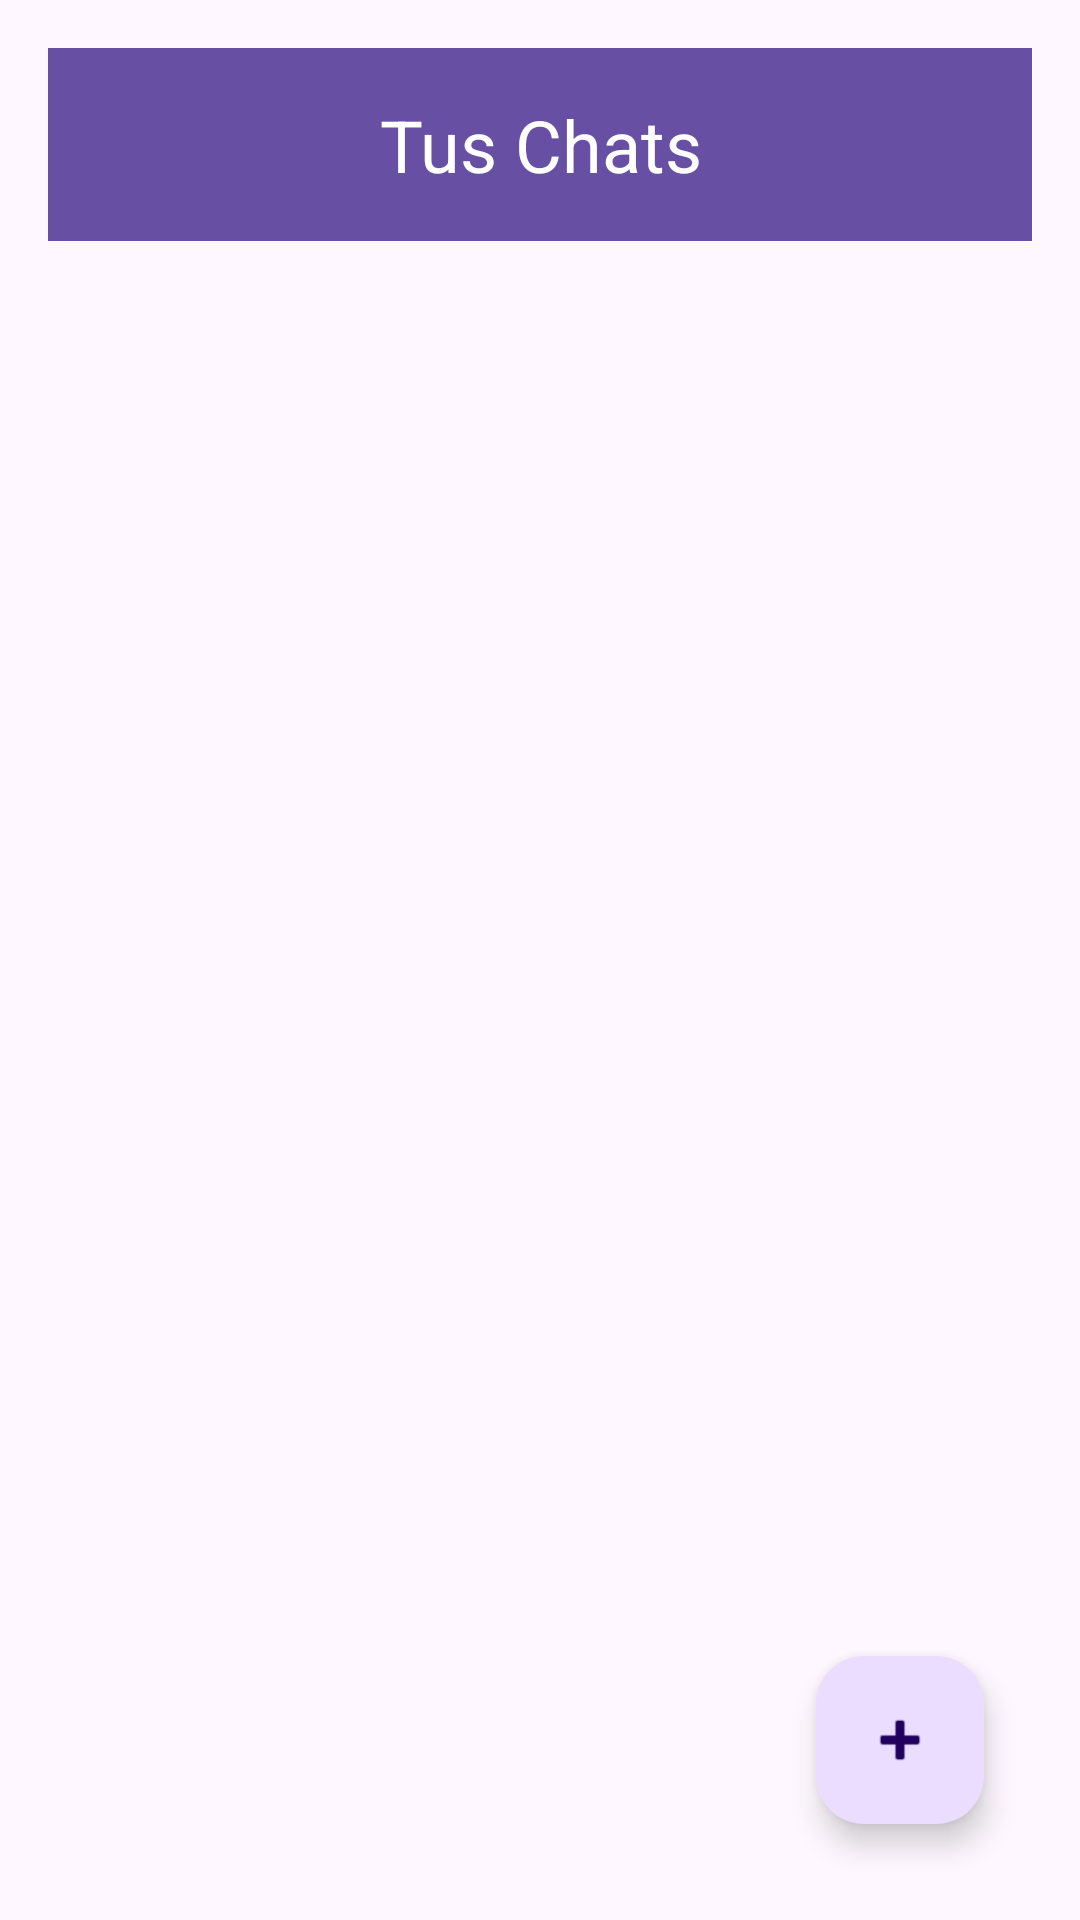

Locate icon controls on the screen. Image size 1080×1920, boxes as (x1, y1, x2, y2).
Agregar chat: (816, 1656, 984, 1824)
